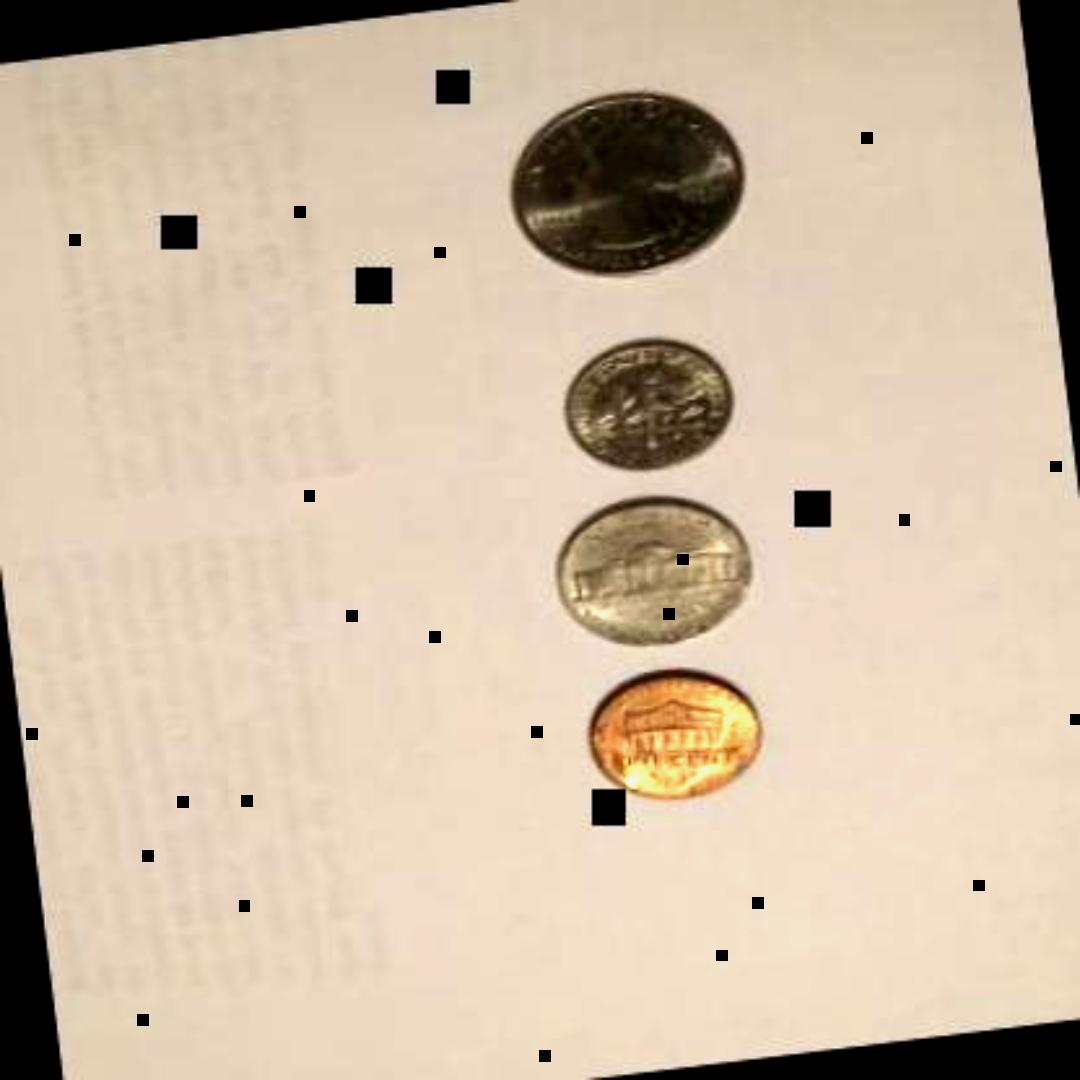Dime: (548, 321, 740, 487)
Nickel: (539, 484, 767, 656)
Penny: (573, 660, 775, 810)
Quarter: (494, 79, 758, 289)
